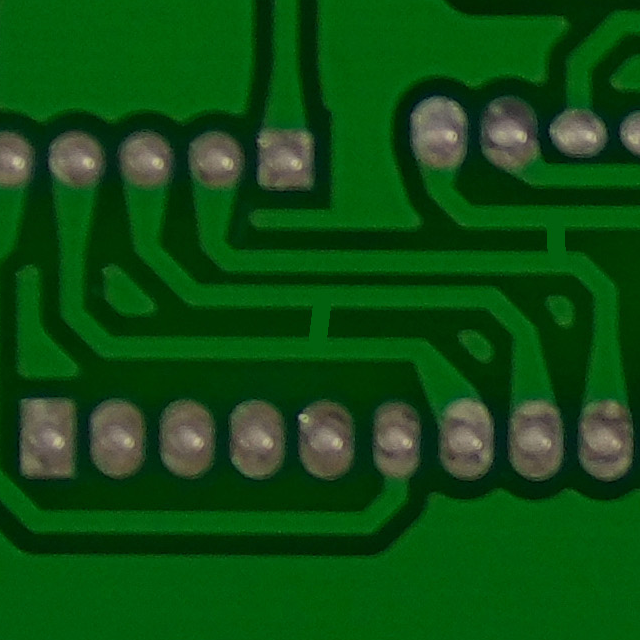short: (505, 193, 612, 286), (269, 274, 372, 367)
